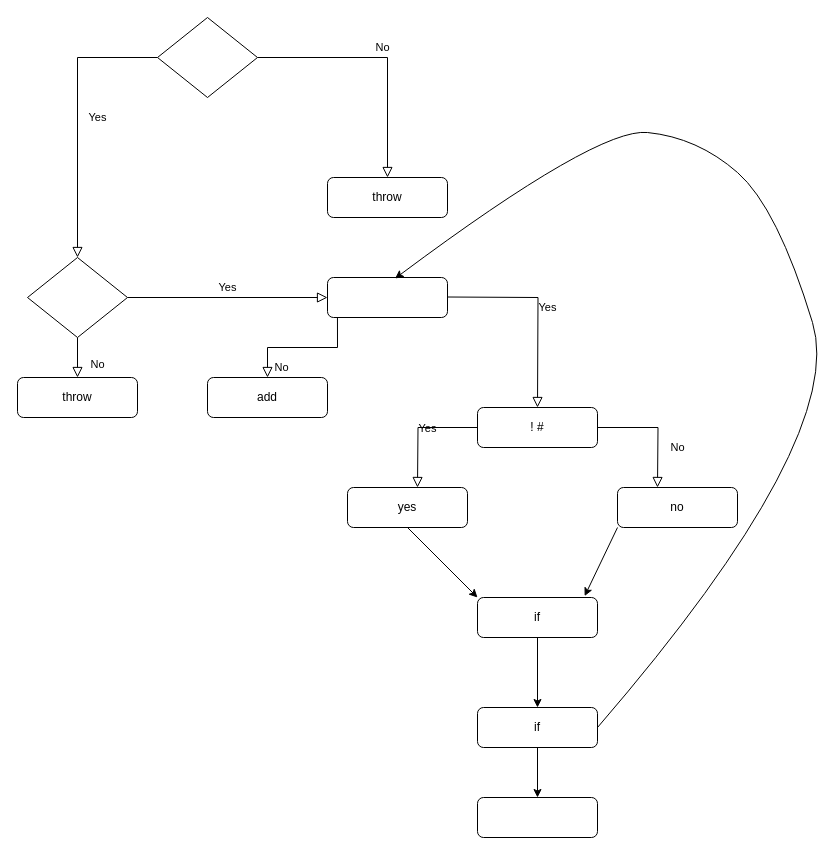
Some shapes in this 835 by 855 pixel diagram are drawn without their labels. Here are the shapes that lost their labels. From the top down, the box of each, then its label:
(156, 16, 258, 98): if size
(26, 256, 128, 338): if !=n
(326, 276, 448, 318): for
(476, 796, 598, 838): return
